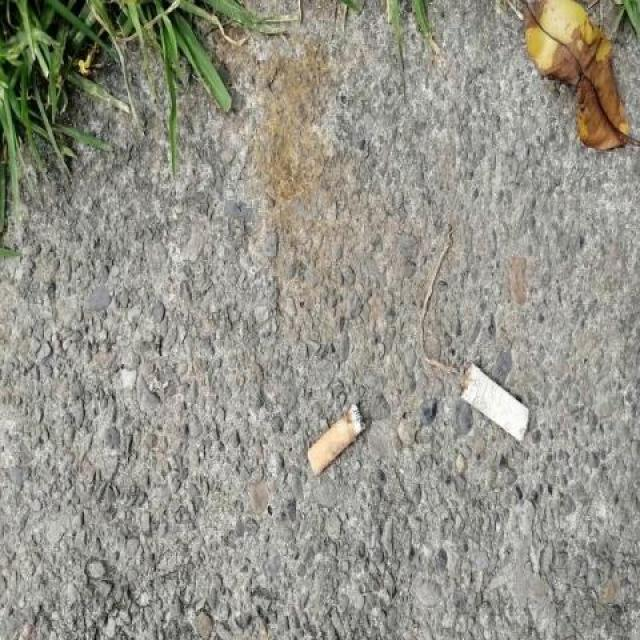non-organic waste: (455, 357, 533, 452), (304, 396, 372, 481)
